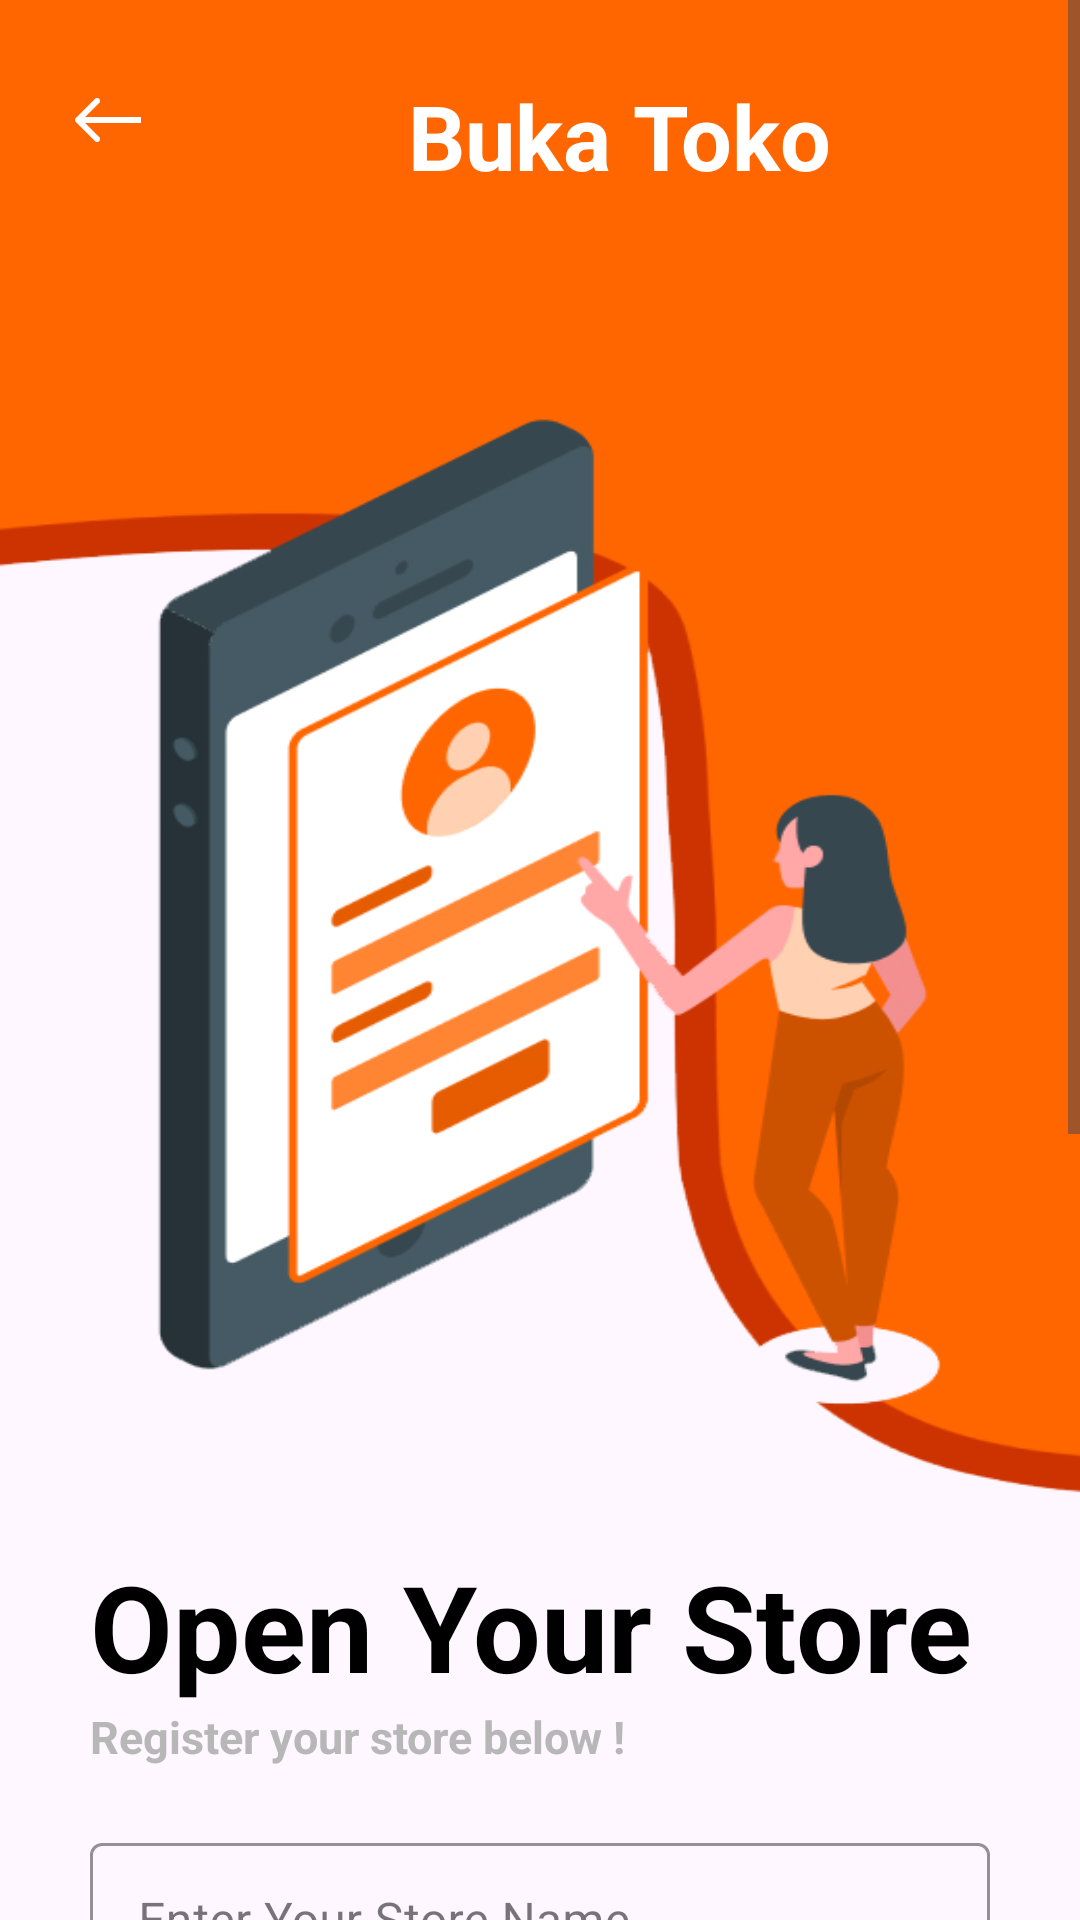

Icon bounding boxes for this 1080 × 1920 phone screenshot, format (x1, y1, x2, y2):
arrowback: (75, 98, 141, 142)
